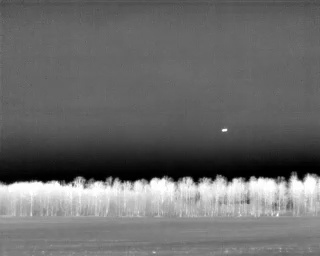DRONE: (217, 124, 232, 137)
